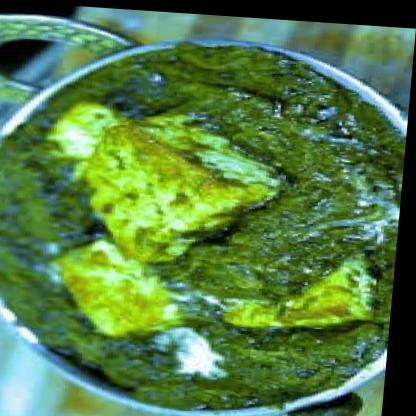palak_paneer: (0, 28, 414, 416)
